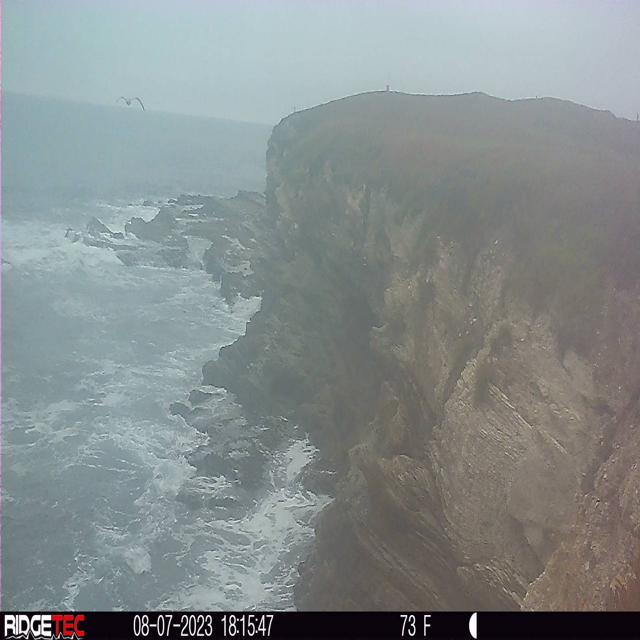bird: (115, 95, 145, 112)
